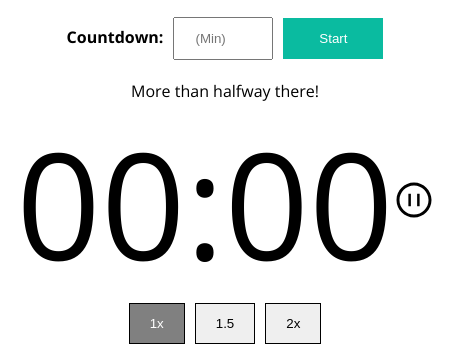
Should stop timer when time is finished
Type "1" into the field named "timer-input" at [223, 38], box [173,16,273,60]
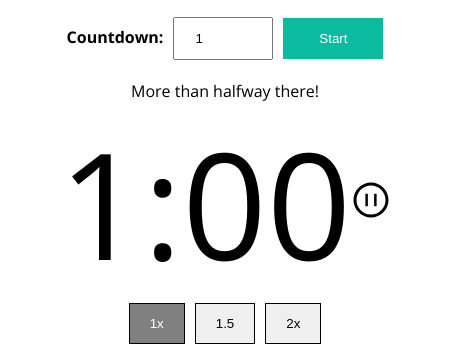
Click the button with aria-label "timer-start" at [333, 38], box [283,18,383,58]
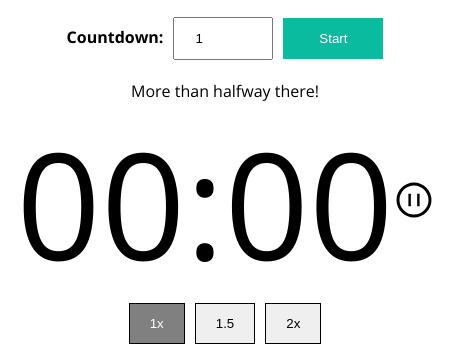
Expected: the text named "timer-display" reads "00:00", [16,102,394,302]
